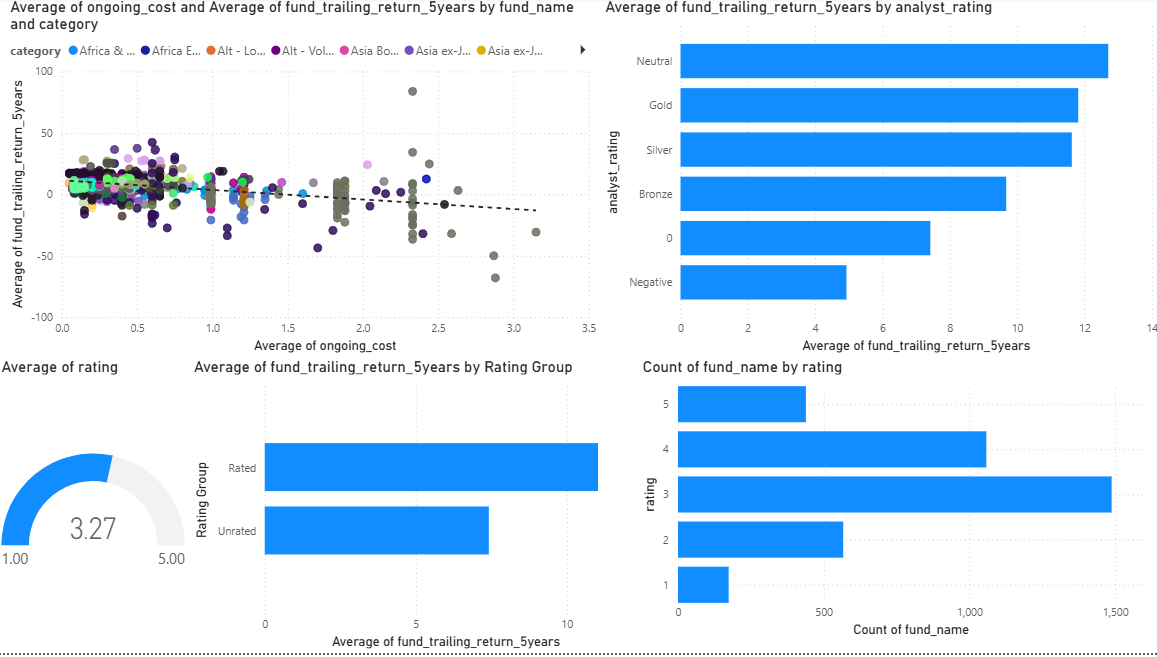

The dashboard page shown, as its layout file describes it:
{"tool":"powerbi","page":{"name":"Page 1","canvas":[1280,720],"ordinal":0},"visuals":[{"type":"scatterChart","fields":{"X":["Avg(Morningstar - European ETFs.ongoing_cost)"],"Y":["Avg(Morningstar - European ETFs.fund_trailing_return_5years)"],"Category":["Morningstar - European ETFs.fund_name"],"Series":["Morningstar - European ETFs.category"]},"box":[9.6,0,653.2,395.2],"z":0},{"type":"clusteredBarChart","fields":{"Category":["Morningstar - European ETFs.Rating Group"],"Y":["Avg(Morningstar - European ETFs.fund_trailing_return_5years)"]},"box":[211.3,395.2,492.6,325.2],"z":1000},{"type":"clusteredBarChart","fields":{"Category":["Morningstar - European ETFs.analyst_rating"],"Y":["Avg(Morningstar - European ETFs.fund_trailing_return_5years)"]},"box":[662.9,0,617.1,395.7],"z":2000},{"type":"gauge","fields":{"Y":["Avg(Morningstar - European ETFs.rating)"]},"box":[0,395.2,211.3,325.2],"z":3000},{"type":"clusteredBarChart","fields":{"Category":["Morningstar - European ETFs.rating"],"Y":["CountNonNull(Morningstar - European ETFs.fund_name)"]},"box":[704.3,395.7,575.7,312.9],"z":4000}]}

Visuals, with their boxes in screenshot pixels (x1, y1, x2, y2), scaled from the page's 1280x720 canvas onto the 1157x657 screenshot:
scatterChart - Avg(Morningstar - European ETFs.ongoing_cost) x Avg(Morningstar - European ETFs.fund_trailing_return_5years): left=9, top=0, right=599, bottom=361
clusteredBarChart - Morningstar - European ETFs.Rating Group x Avg(Morningstar - European ETFs.fund_trailing_return_5years): left=191, top=361, right=636, bottom=656
clusteredBarChart - Morningstar - European ETFs.analyst_rating x Avg(Morningstar - European ETFs.fund_trailing_return_5years): left=599, top=0, right=1156, bottom=361
gauge - Avg(Morningstar - European ETFs.rating): left=0, top=361, right=191, bottom=656
clusteredBarChart - Morningstar - European ETFs.rating x CountNonNull(Morningstar - European ETFs.fund_name): left=637, top=361, right=1156, bottom=647
